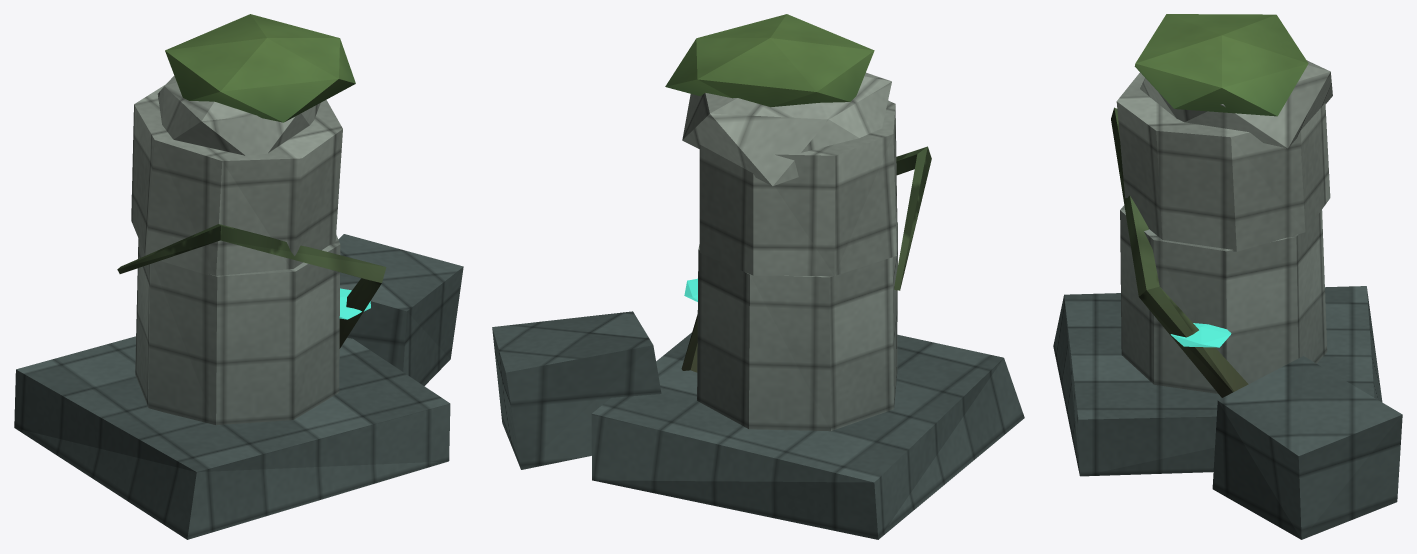
The model's file is ruin_pillar_b.glb.
The picture shows the model from 3 angles, left to right: view 1: azimuth 30°, elevation 25°; view 2: azimuth 150°, elevation 25°; view 3: azimuth 270°, elevation 25°; orthographic projection. The views are drawn at different scales.
Visible parts, largest first — view 1: ruin_pillar_b; view 2: ruin_pillar_b; view 3: ruin_pillar_b.
Part boxes in pixels (x1,y1,x2,y2): ruin_pillar_b: (14,14,463,539); ruin_pillar_b: (492,14,1024,539); ruin_pillar_b: (1053,14,1402,539).
Bounding box in the file's own units: 2.29 × 2.14 × 1.7.
Materials: 4 (4 with a texture image).
